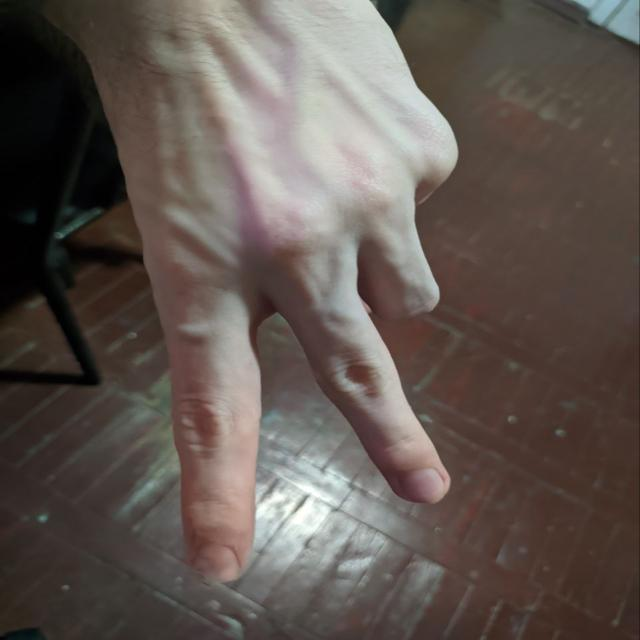l: (84, 88, 532, 585)
